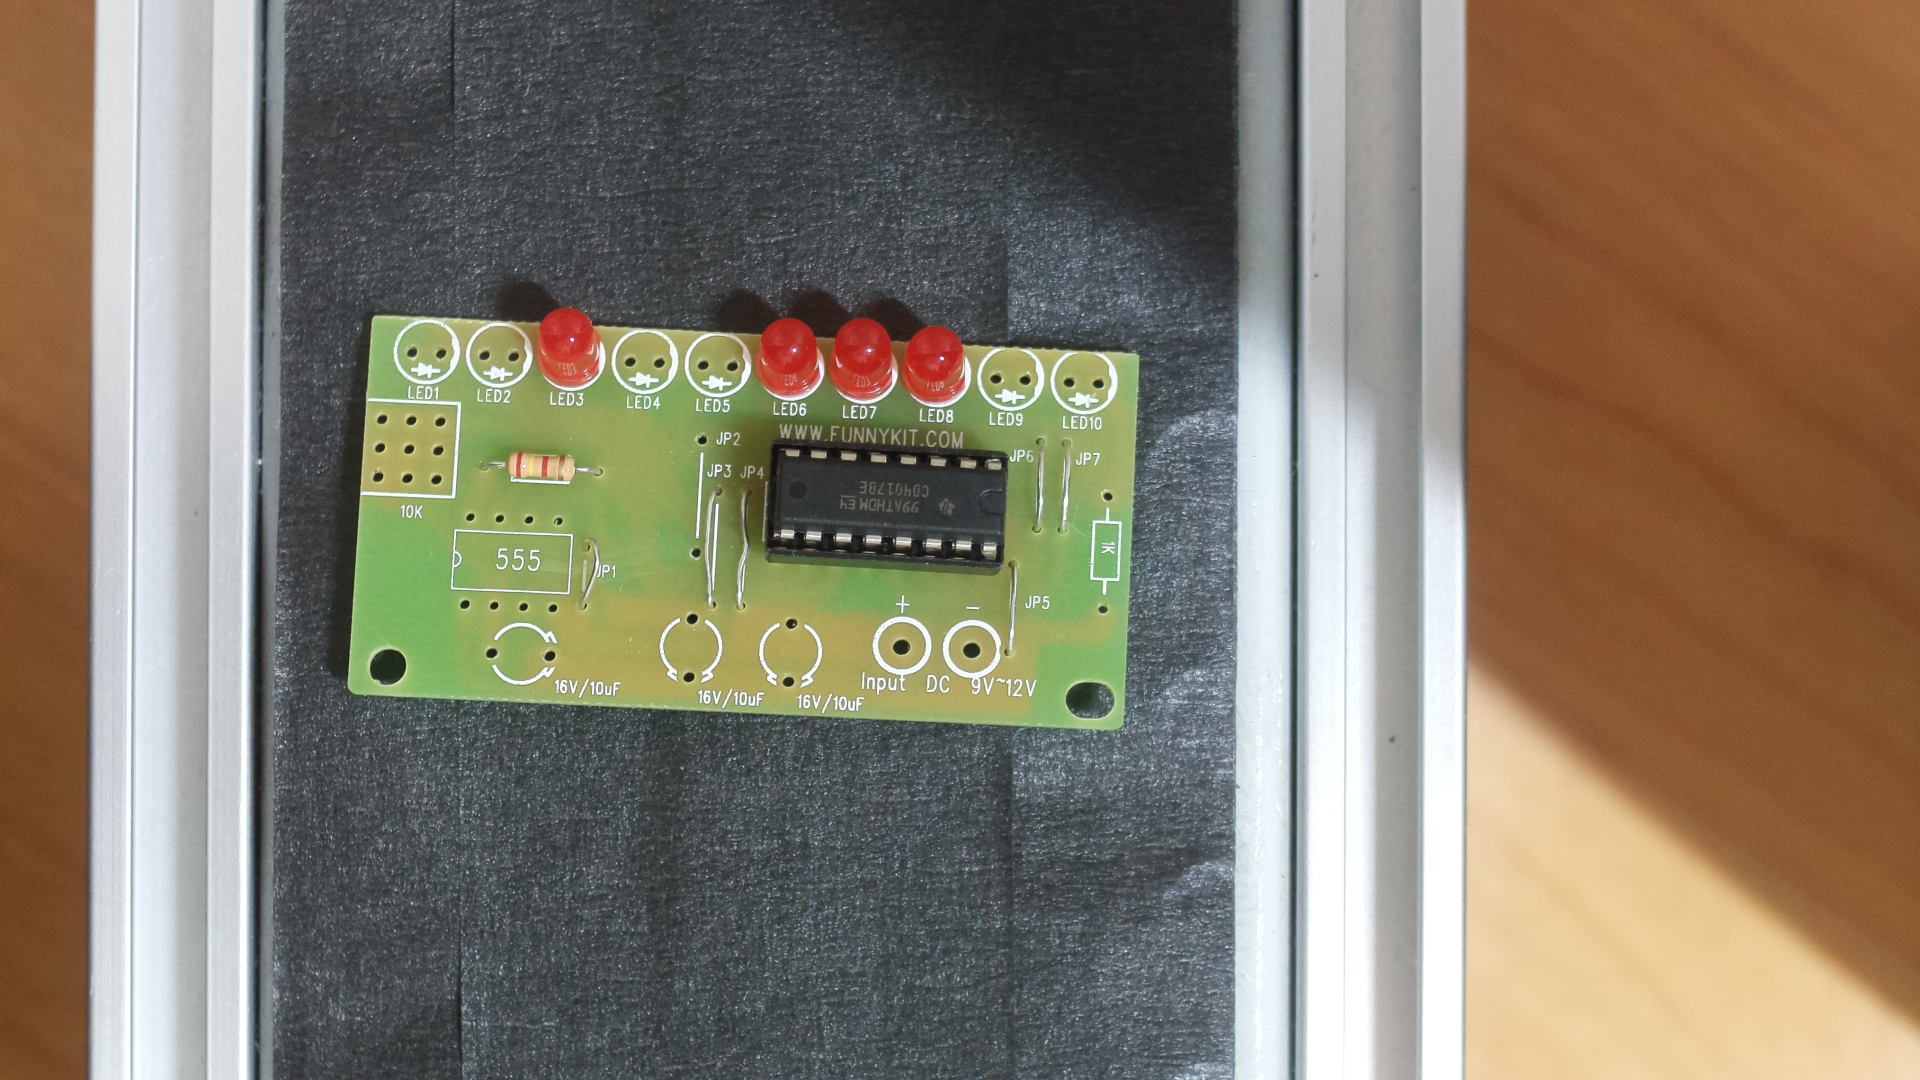B_Missing_part: (351, 293, 1149, 745)
